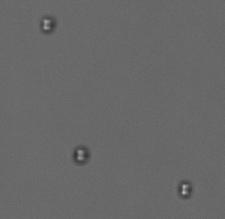Living Cell: (39, 16, 56, 34), (74, 146, 89, 163), (178, 181, 192, 199)
